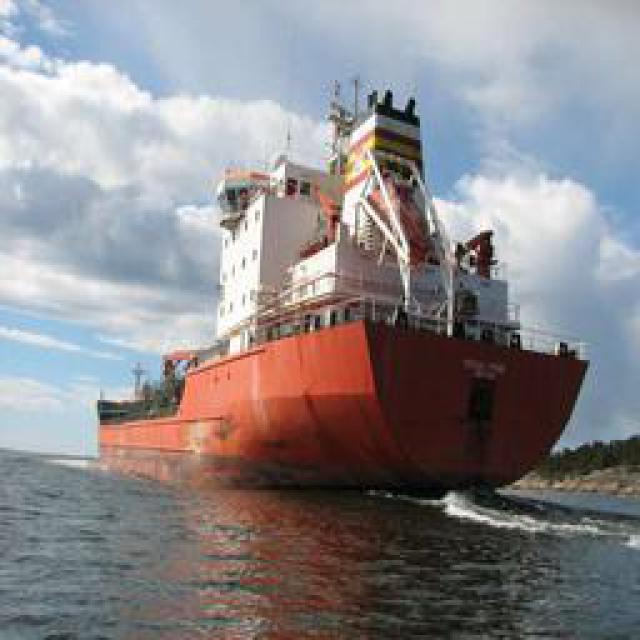Ship: (68, 103, 598, 498)
